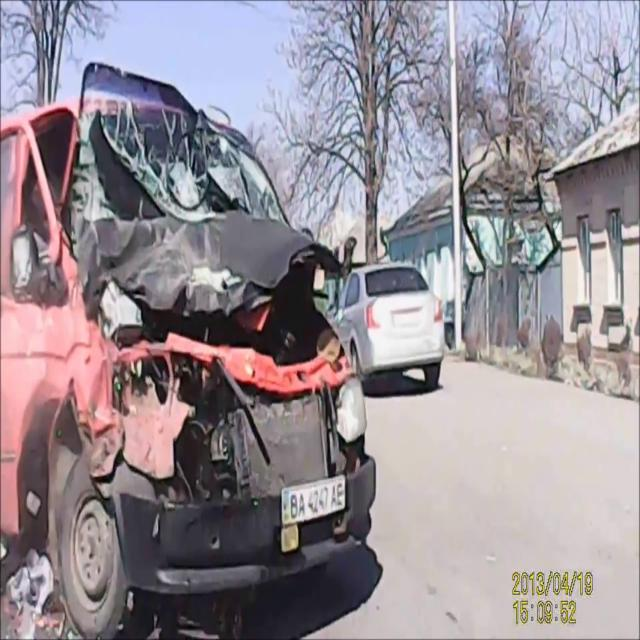accident: (11, 69, 373, 581)
